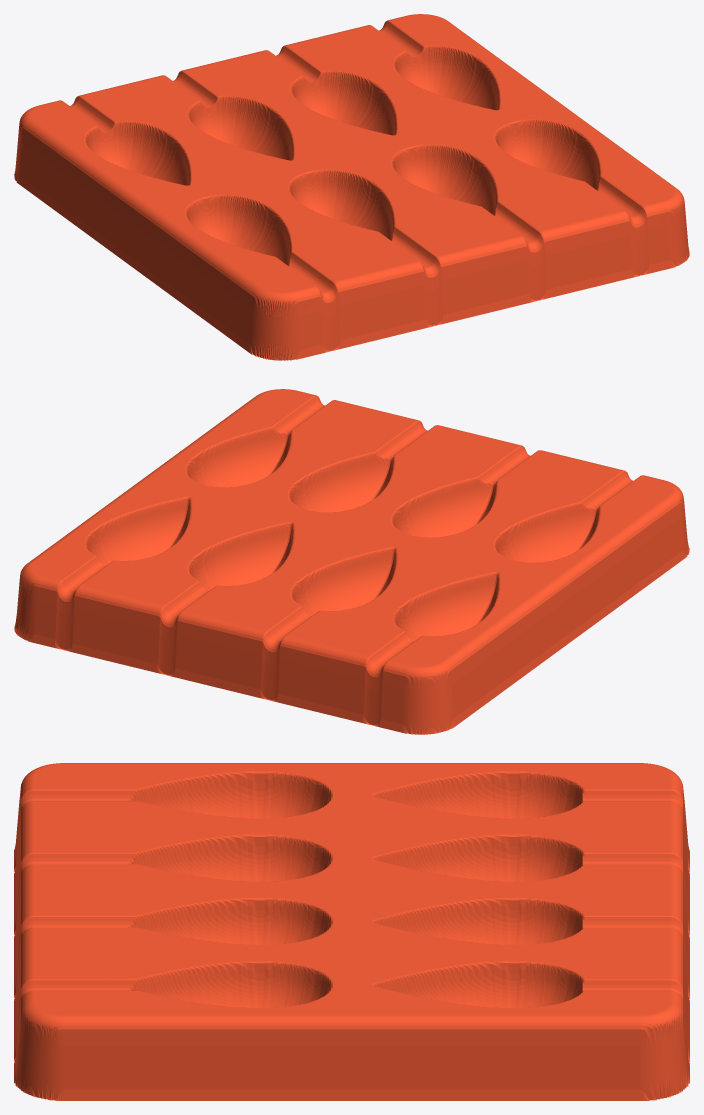
File: mold.glb
3 views of the same model, one above another, from view 1: azimuth 30°, elevation 25°; view 2: azimuth 150°, elevation 25°; view 3: azimuth 270°, elevation 25° (orthographic). The views are drawn at different scales.
Parts seen in each view (by area): view 1: geometry_0; view 2: geometry_0; view 3: geometry_0.
Boxes of the visible parts, <box> form: geometry_0: <box>14,14,689,360</box>; geometry_0: <box>14,389,689,734</box>; geometry_0: <box>14,763,689,1100</box>.
Bounding box in the file's own units: 0.1152 × 0.0155 × 0.1229.
